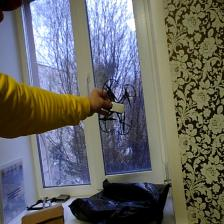drone: (98, 73, 136, 140)
